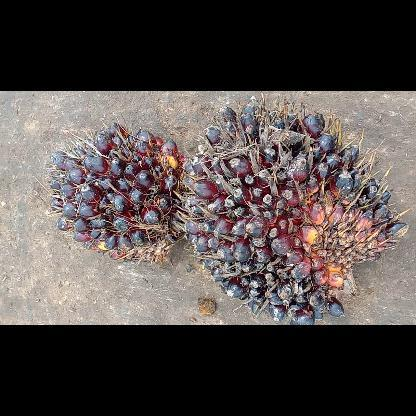TBS mentah: (191, 91, 409, 323), (47, 123, 186, 259)
